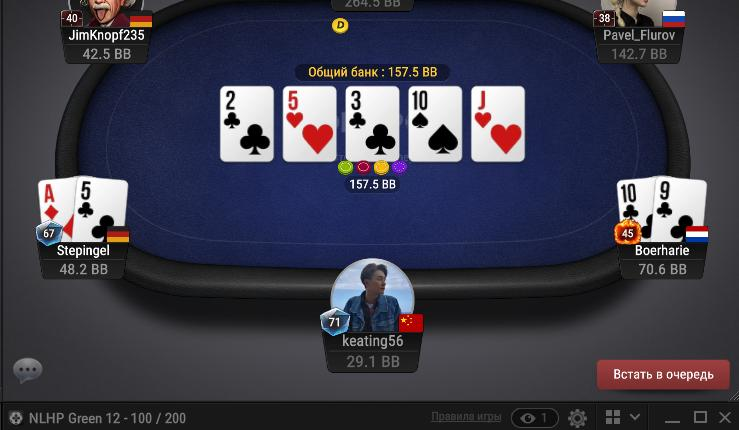10c: (618, 177, 656, 241)
10s: (410, 86, 461, 162)
2c: (220, 85, 274, 162)
3c: (345, 87, 399, 161)
5c: (74, 173, 128, 243)
5h: (283, 87, 337, 162)
9c: (655, 174, 706, 241)
Ad: (37, 176, 76, 242)
Jh: (472, 88, 524, 161)
